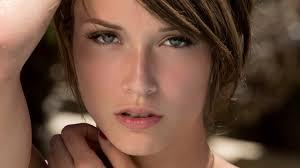opened: (82, 14, 200, 62)
